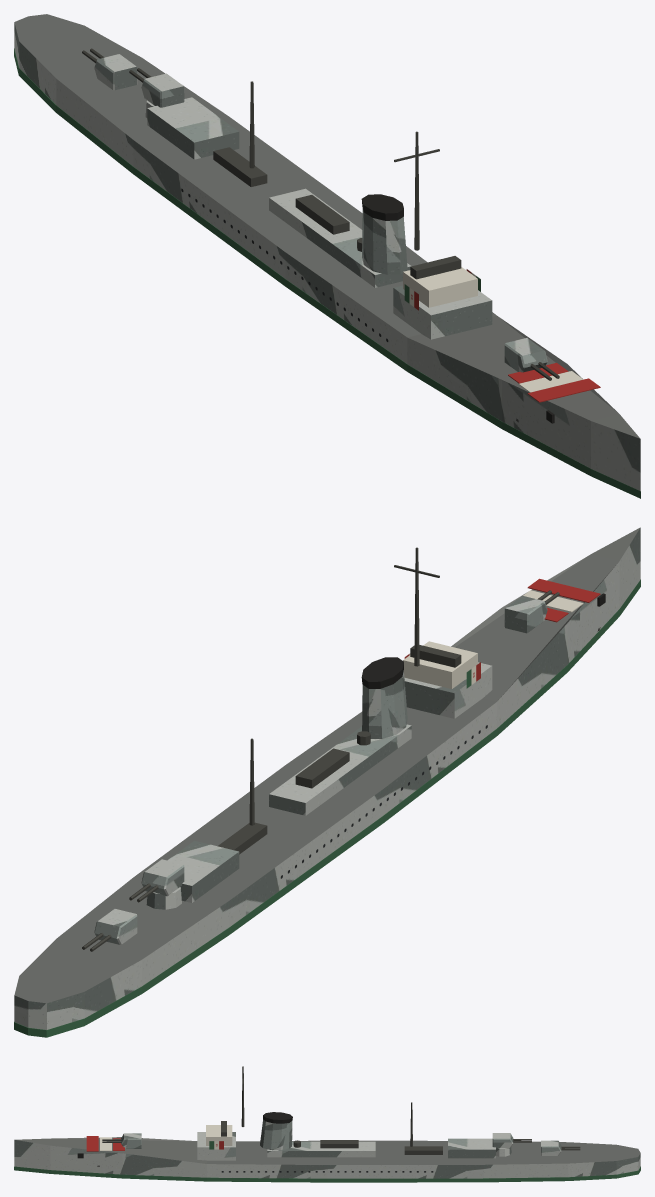
File: escort.glb
The picture shows the model from 3 angles, top to bottom: view 1: azimuth 30°, elevation 25°; view 2: azimuth 150°, elevation 25°; view 3: azimuth 270°, elevation 25°; orthographic projection. The views are drawn at different scales.
Parts seen in each view (by area): view 1: coque, ligne_flottaison, roof_arriere, roof_milieu, passerelle_1, cheminee_1, passerelle_2, tourelle_3_masque, tourelle_2_masque, tourelle_1_masque, tubes_lance_torpilles_1, tubes_lance_torpilles_2 (+3 smaller); view 2: coque, ligne_flottaison, roof_milieu, roof_arriere, passerelle_1, cheminee_1, passerelle_2, tourelle_1_masque, tourelle_2_masque, tourelle_3_masque, tubes_lance_torpilles_1, coiffe_cheminee_1 (+2 smaller); view 3: coque, ligne_flottaison, roof_milieu, roof_arriere, cheminee_1, passerelle_1, passerelle_2, tubes_lance_torpilles_1, tubes_lance_torpilles_2, tourelle_2_masque, tourelle_1_masque, tourelle_3_masque (+2 smaller).
Part boxes in pixels (x1,y1,x2,y2): coque: (14,14,640,490); ligne_flottaison: (14,48,640,498); roof_arriere: (147,97,239,159); roof_milieu: (269,188,411,287); passerelle_1: (393,285,492,339); cheminee_1: (362,208,407,274); passerelle_2: (403,267,477,307); tourelle_3_masque: (94,54,137,90); tourelle_2_masque: (141,73,184,107); tourelle_1_masque: (504,338,547,372); tubes_lance_torpilles_1: (295,195,349,234); tubes_lance_torpilles_2: (213,147,267,186); coque: (14,527,640,1029); ligne_flottaison: (14,579,640,1037); roof_milieu: (269,724,411,815); roof_arriere: (167,840,239,902); passerelle_1: (404,662,492,718); cheminee_1: (362,670,407,738); passerelle_2: (403,641,477,688); tourelle_1_masque: (504,596,547,633); tourelle_2_masque: (141,859,184,896); tourelle_3_masque: (94,909,137,944); tubes_lance_torpilles_1: (295,748,349,788); coiffe_cheminee_1: (361,657,403,688); coque: (14,1137,640,1178); ligne_flottaison: (14,1166,640,1182); roof_milieu: (267,1141,375,1157); roof_arriere: (448,1138,495,1158); cheminee_1: (260,1119,292,1150); passerelle_1: (197,1132,235,1160); passerelle_2: (206,1125,232,1145); tubes_lance_torpilles_1: (320,1140,358,1148); tubes_lance_torpilles_2: (404,1146,442,1154); tourelle_2_masque: (492,1133,513,1148); tourelle_1_masque: (121,1133,141,1148); tourelle_3_masque: (541,1140,561,1155).
Bounding box in the file's own units: 0.488 × 0.95 × 5.21.
Materials: 10 (4 with a texture image).
